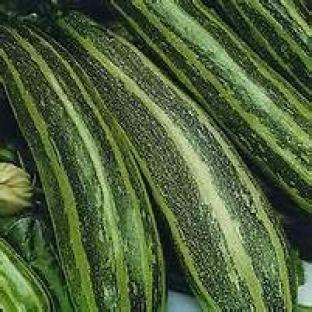Zucchini: (56, 14, 296, 311), (0, 26, 164, 311), (0, 239, 52, 311)
